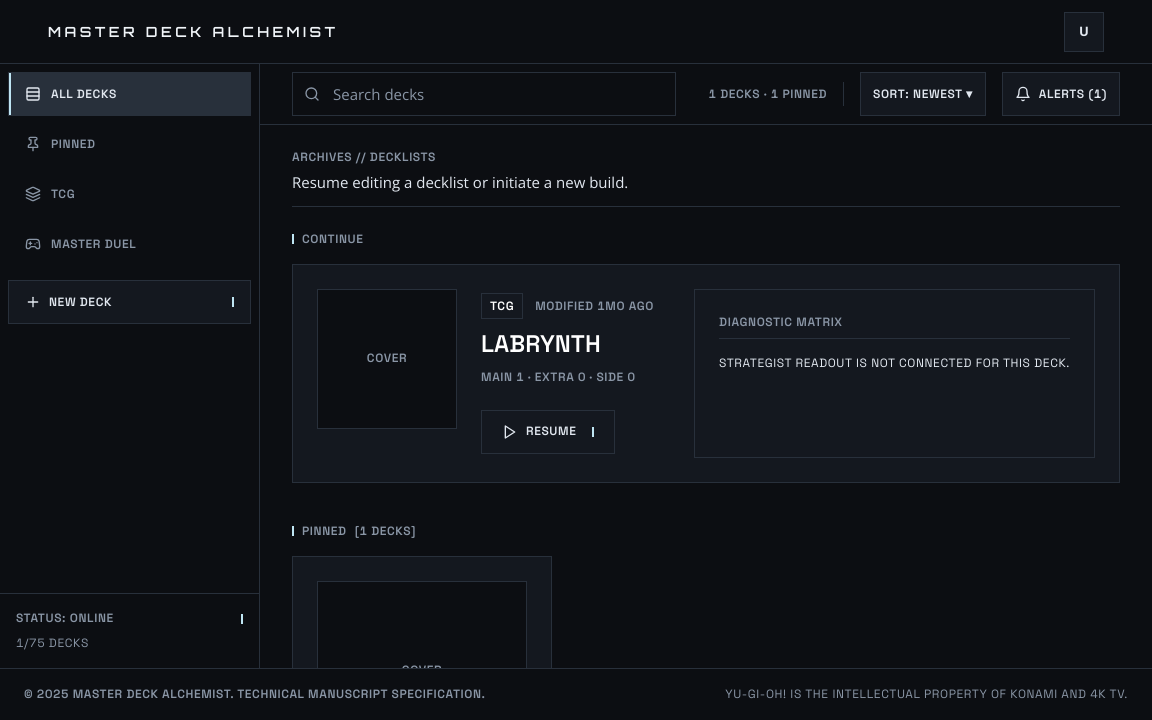
it: ArchivesScreen › renders saved decks and reports real legality instead of sample copy
The width and height of the screenshot is (1152, 720).
Expected: the text "MASTER DECK ALCHEMIST" is shown, [48, 22, 339, 41]
Expected: the heading "ARCHIVES // DECKLISTS" is shown, [292, 149, 436, 165]
Click the button "ALERTS (1)": {"x": 1061, "y": 94} [1002, 72, 1120, 116]
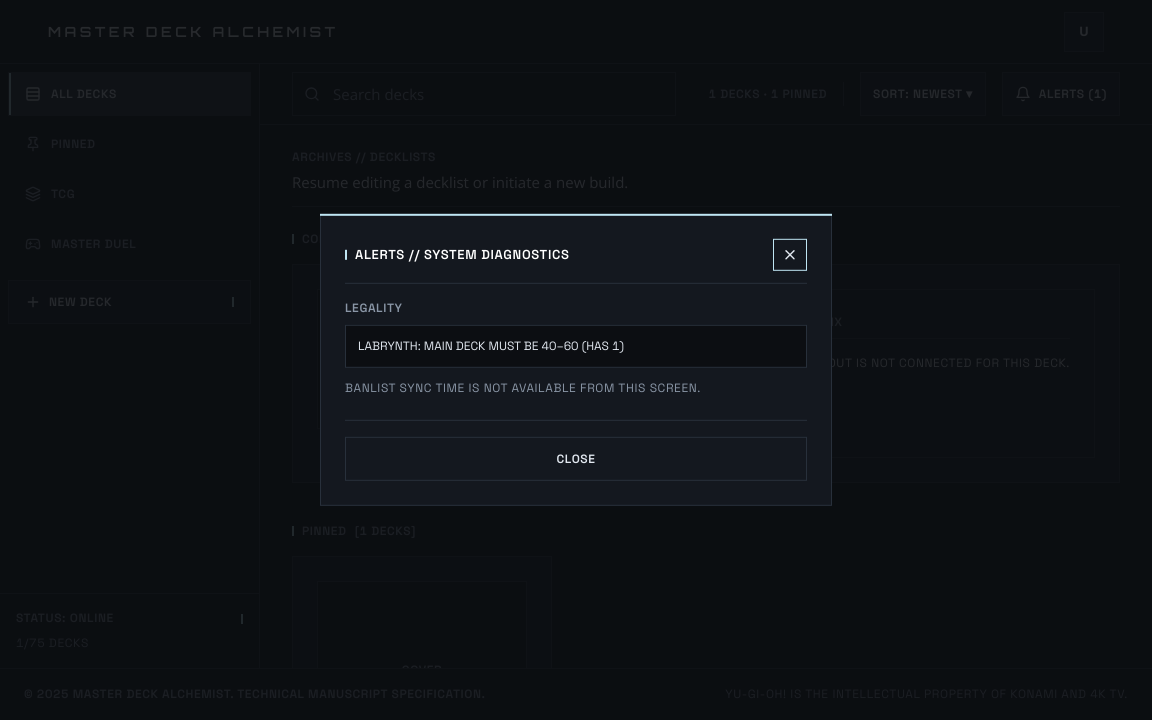
Expected: the dialog "ALERTS" is shown, [320, 214, 832, 506]
Expected: the text "Labrynth: main deck must be 40–60 (has 1)" is shown, [358, 338, 624, 354]
Click the button named "Close": {"x": 790, "y": 255} [773, 239, 807, 271]
(page scrolled)
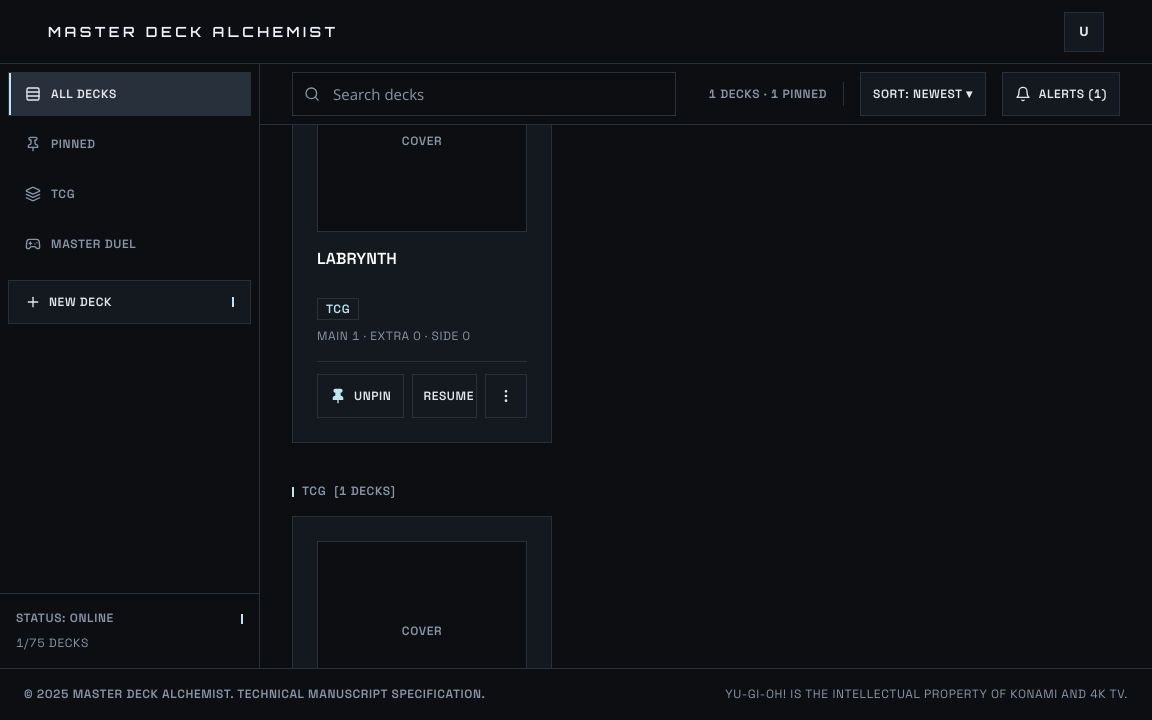
Click the button named "more options for labrynth": {"x": 506, "y": 396} [485, 374, 527, 418]
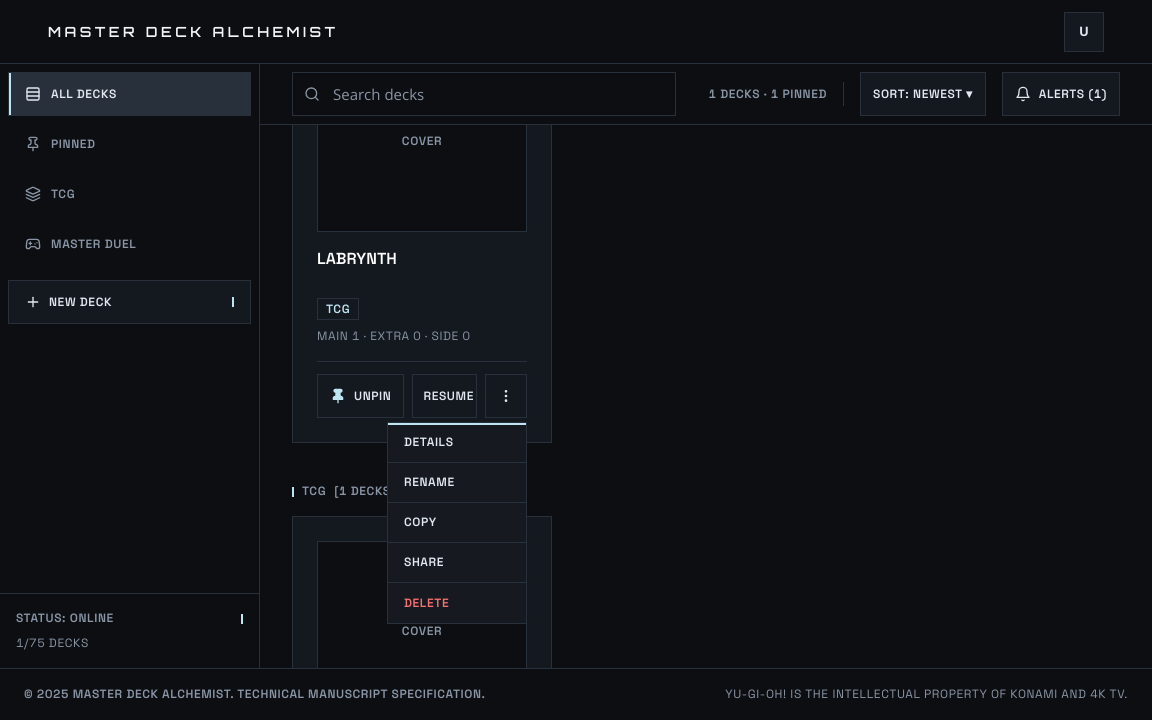
Click the menu item "DETAILS": {"x": 457, "y": 443} [388, 423, 526, 463]
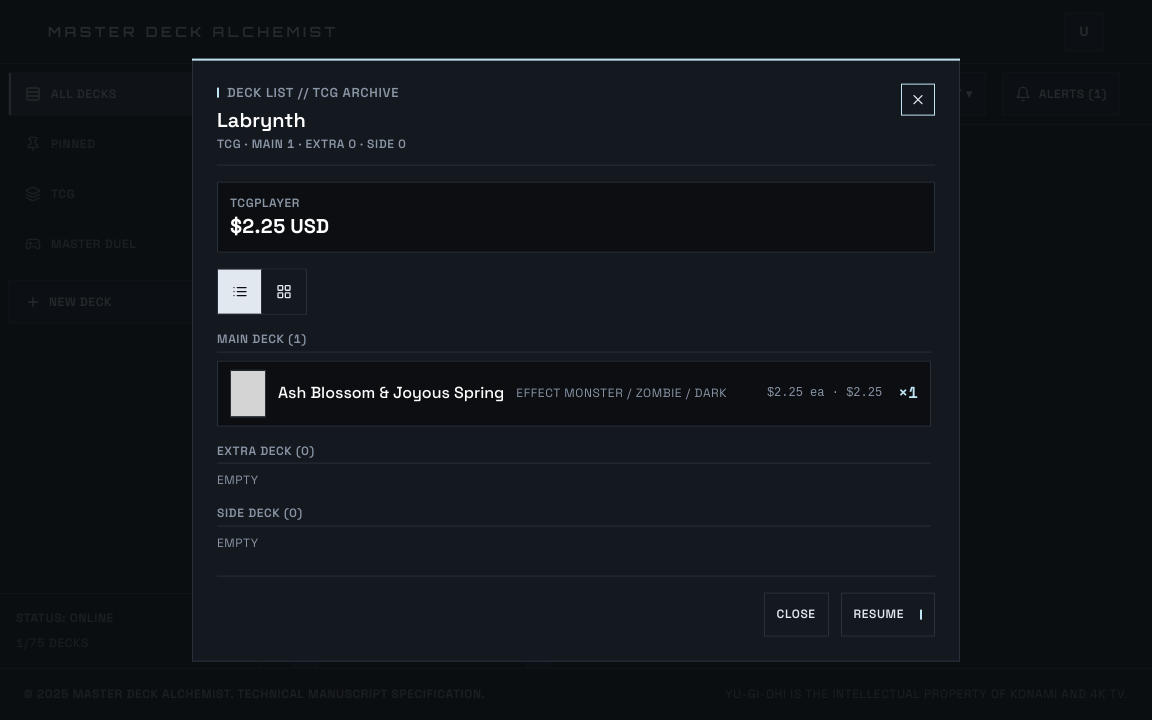
Expected: the dialog "DECK LIST" is shown, [192, 59, 960, 661]
Expected: the text "Ash Blossom & Joyous Spring" is shown, [278, 382, 504, 404]
Expected: the text "$2.25 USD" is shown, [230, 212, 329, 238]
